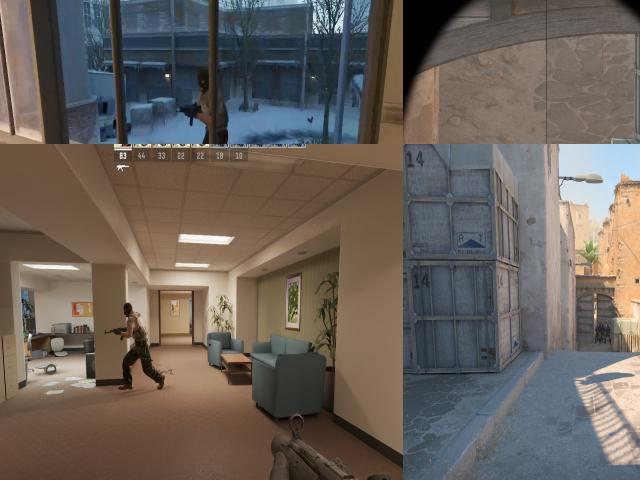CT: (595, 324, 600, 344), (605, 324, 610, 344), (598, 322, 602, 342), (602, 324, 606, 342)
CT-Head: (595, 324, 599, 328), (607, 324, 609, 328), (600, 323, 602, 327), (603, 324, 605, 327)
T: (188, 63, 221, 144), (126, 302, 146, 367)
T-Head: (192, 67, 211, 91), (124, 303, 133, 317)
